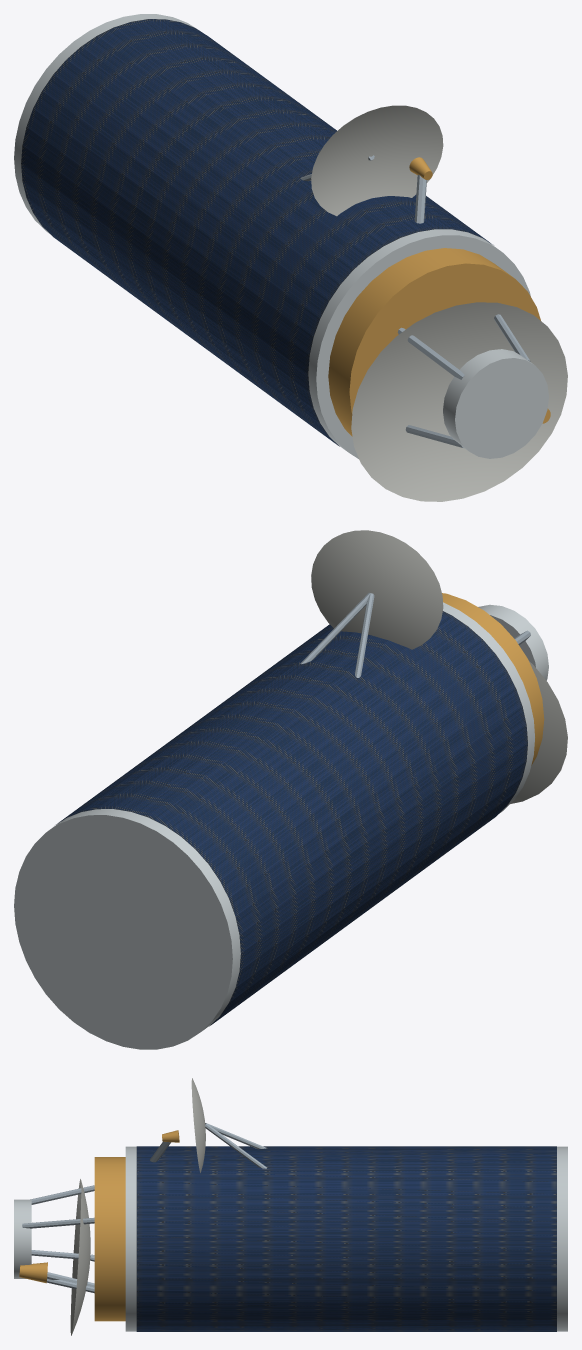
File: ref-hs-353-8330.glb
3 views of the same model, one above another, from view 1: azimuth 30°, elevation 25°; view 2: azimuth 150°, elevation 25°; view 3: azimuth 270°, elevation 25° (orthographic). The views are drawn at different scales.
Parts seen in each view (by area): view 1: Body-mounted solar cells, Deck-mounted reflector, Despun equipment deck, Communications reflector, Solar drum core, Antenna tower platform, Antenna tower leg; view 2: Body-mounted solar cells, Solar drum core, Communications reflector, Deck-mounted reflector, Despun equipment deck, Antenna tower platform, Shell hinge strut; view 3: Body-mounted solar cells, Despun equipment deck, Solar drum core, Deck-mounted reflector, Antenna tower platform, Antenna tower leg (×2), Communications reflector, Feed horn, Shell hinge strut.
Part boxes in pixels (x1,y1,x2,y2): Body-mounted solar cells: (21,19,492,446); Deck-mounted reflector: (351,302,567,501); Despun equipment deck: (328,248,540,436); Communications reflector: (311,105,443,216); Solar drum core: (14,14,530,458); Antenna tower platform: (443,349,548,458); Antenna tower leg: (397,327,464,379); Body-mounted solar cells: (56,611,527,1026); Solar drum core: (14,602,534,1049); Communications reflector: (311,530,443,649); Deck-mounted reflector: (510,661,567,803); Despun equipment deck: (442,593,544,765); Antenna tower platform: (478,604,548,680); Shell hinge strut: (300,592,370,664); Body-mounted solar cells: (136,1146,556,1331); Despun equipment deck: (94,1157,125,1321); Solar drum core: (125,1146,567,1331); Deck-mounted reflector: (70,1179,90,1335); Antenna tower platform: (14,1199,31,1278); Antenna tower leg (×2): (22,1185,94,1228); Communications reflector: (191,1078,205,1172); Feed horn: (19,1262,47,1283); Shell hinge strut: (205,1123,266,1168).
Bounding box in the file's own units: 2.41 × 3.46 × 7.19.
5 materials, 1 textured.
